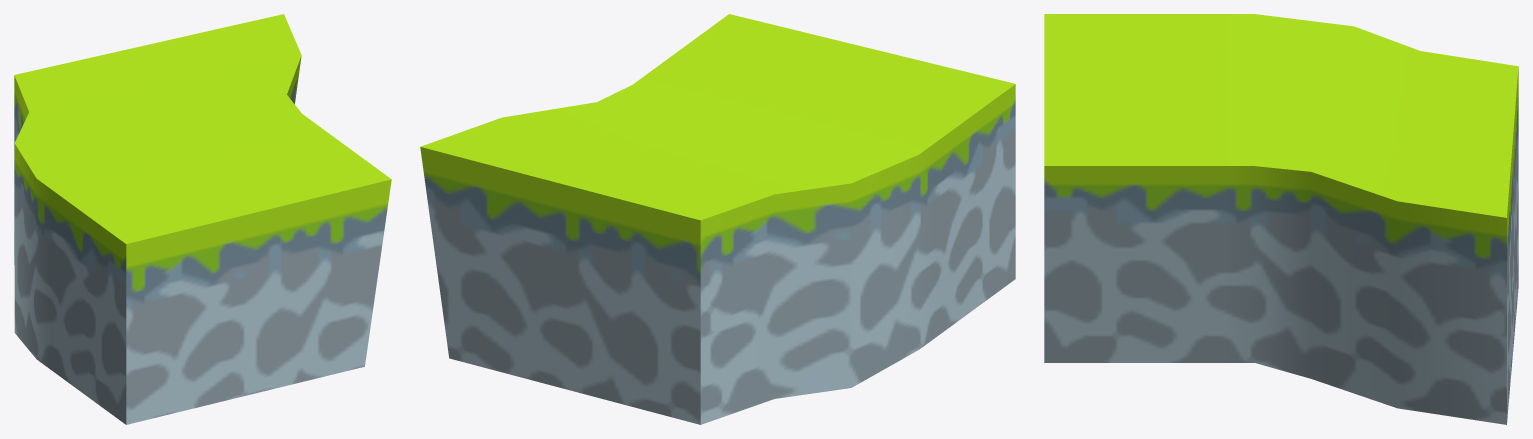
Rendered from Plato.fbx.
The picture shows the model from 3 angles, left to right: view 1: azimuth 30°, elevation 25°; view 2: azimuth 150°, elevation 25°; view 3: azimuth 270°, elevation 25°; orthographic projection. The views are drawn at different scales.
Visible parts, largest first — view 1: Cube; view 2: Cube; view 3: Cube.
Boxes of the visible parts, left/top/right/bottom form: Cube: left=14, top=14, right=391, bottom=424; Cube: left=420, top=14, right=1015, bottom=424; Cube: left=1044, top=14, right=1518, bottom=424.
Size of the model in its own units: 1440 by 737 by 1420.
